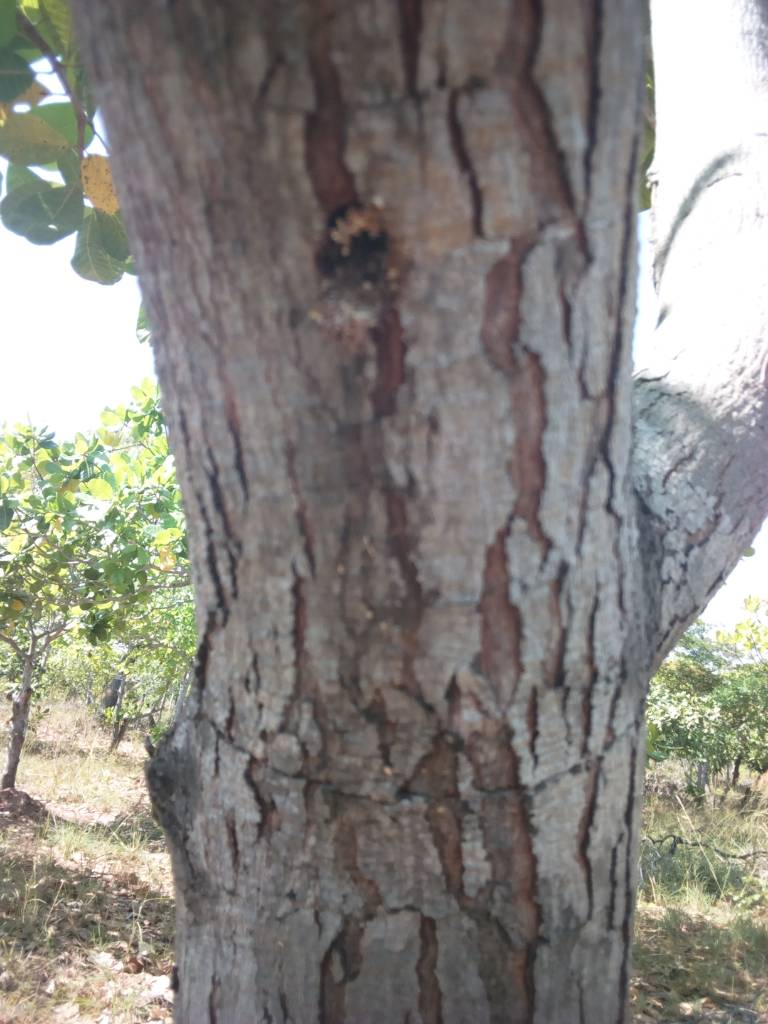Apate terebrans: (296, 196, 441, 331)
